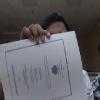notebook: (0, 30, 88, 99)
